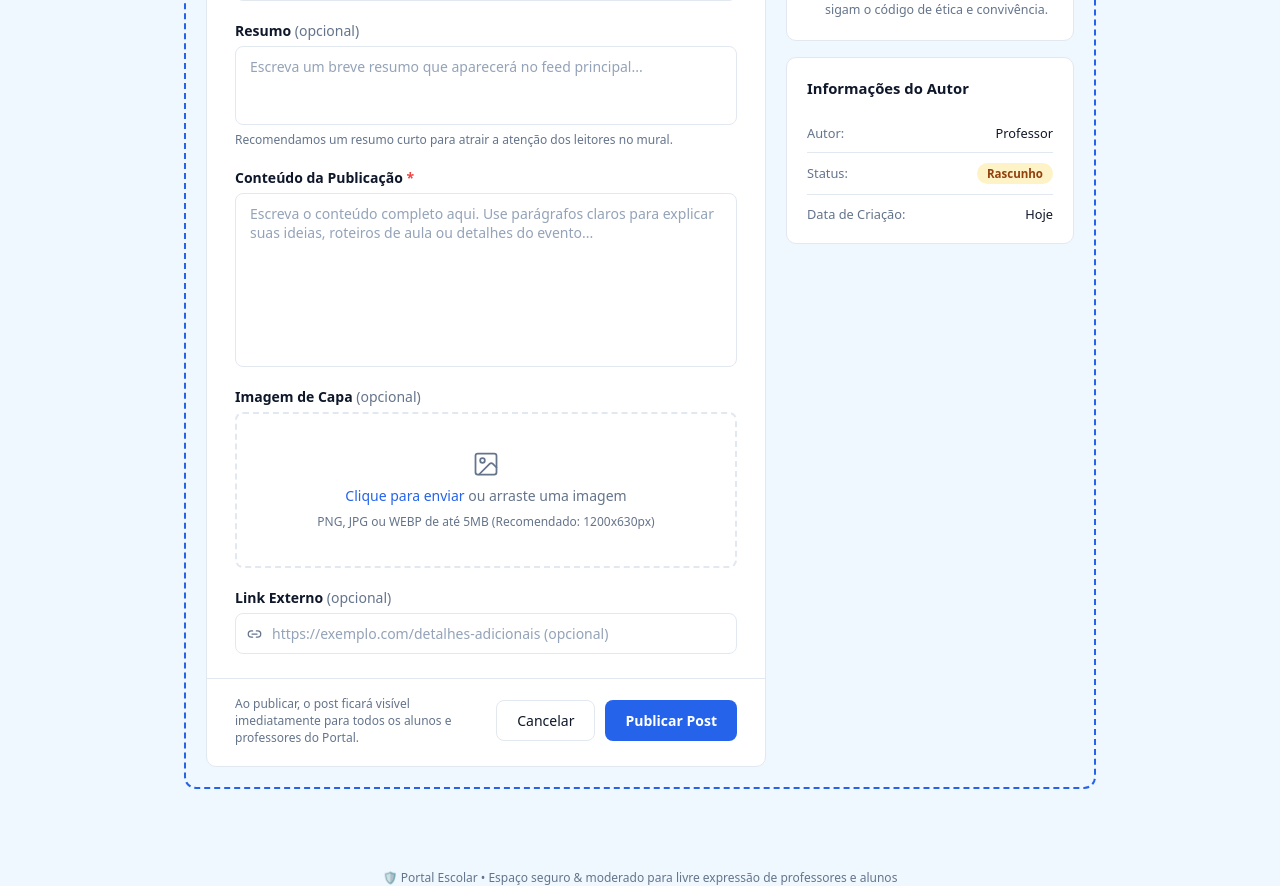
Scenario: PostForm › valida campos obrigatórios antes de submeter
The width and height of the screenshot is (1280, 886).
(page scrolled)
Click the button "Publicar Post": click(671, 720) x1=606 y1=700 x2=737 y2=741
(page scrolled)
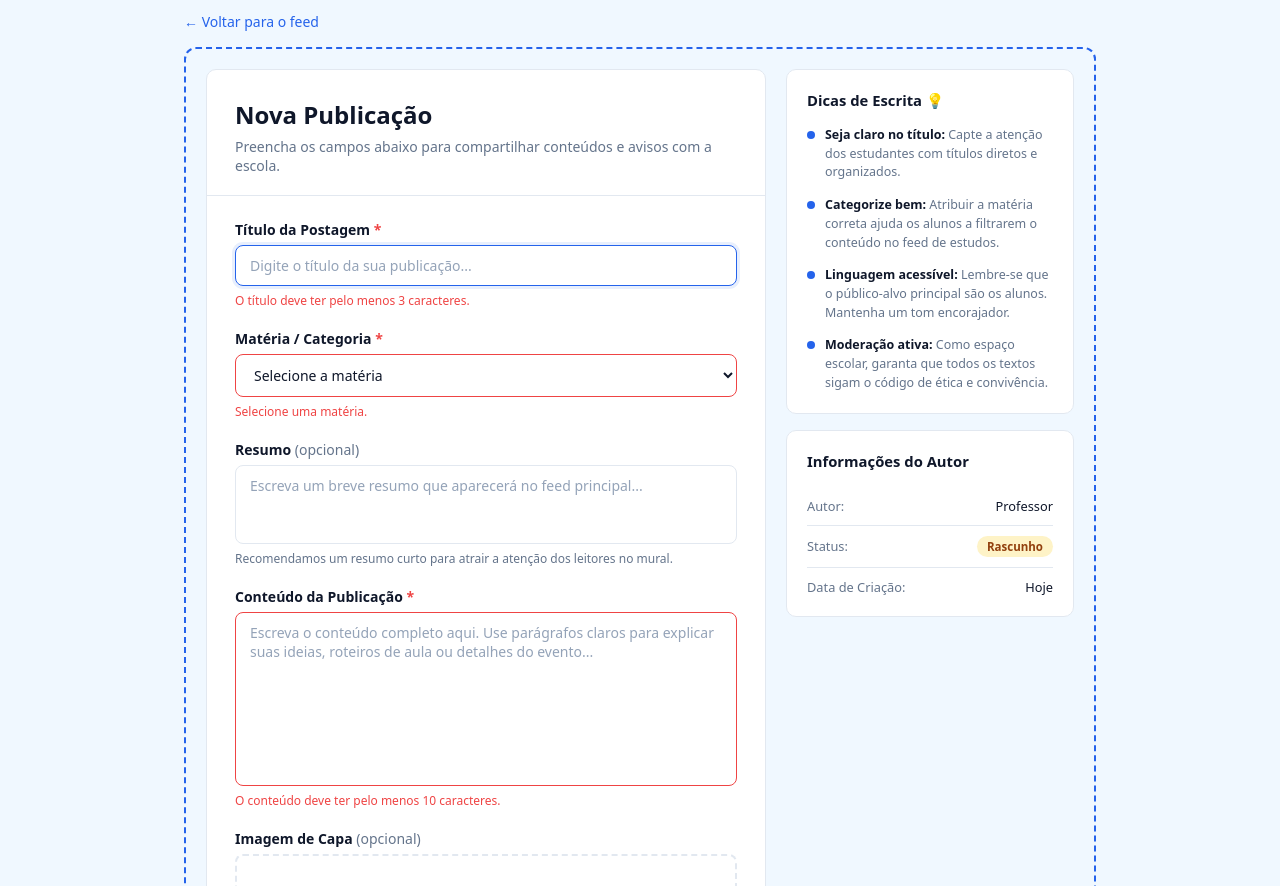
Expected: the text "O título deve ter pelo menos 3 caracteres." is shown, x1=235 y1=292 x2=470 y2=309
Expected: the text "Selecione uma matéria." is shown, x1=235 y1=403 x2=367 y2=420
Expected: the text "O conteúdo deve ter pelo menos 10 caracteres." is shown, x1=235 y1=792 x2=500 y2=809
